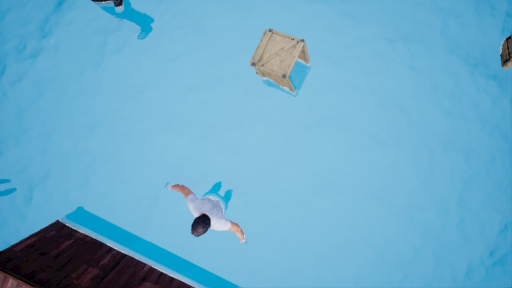person: (172, 180, 254, 251)
